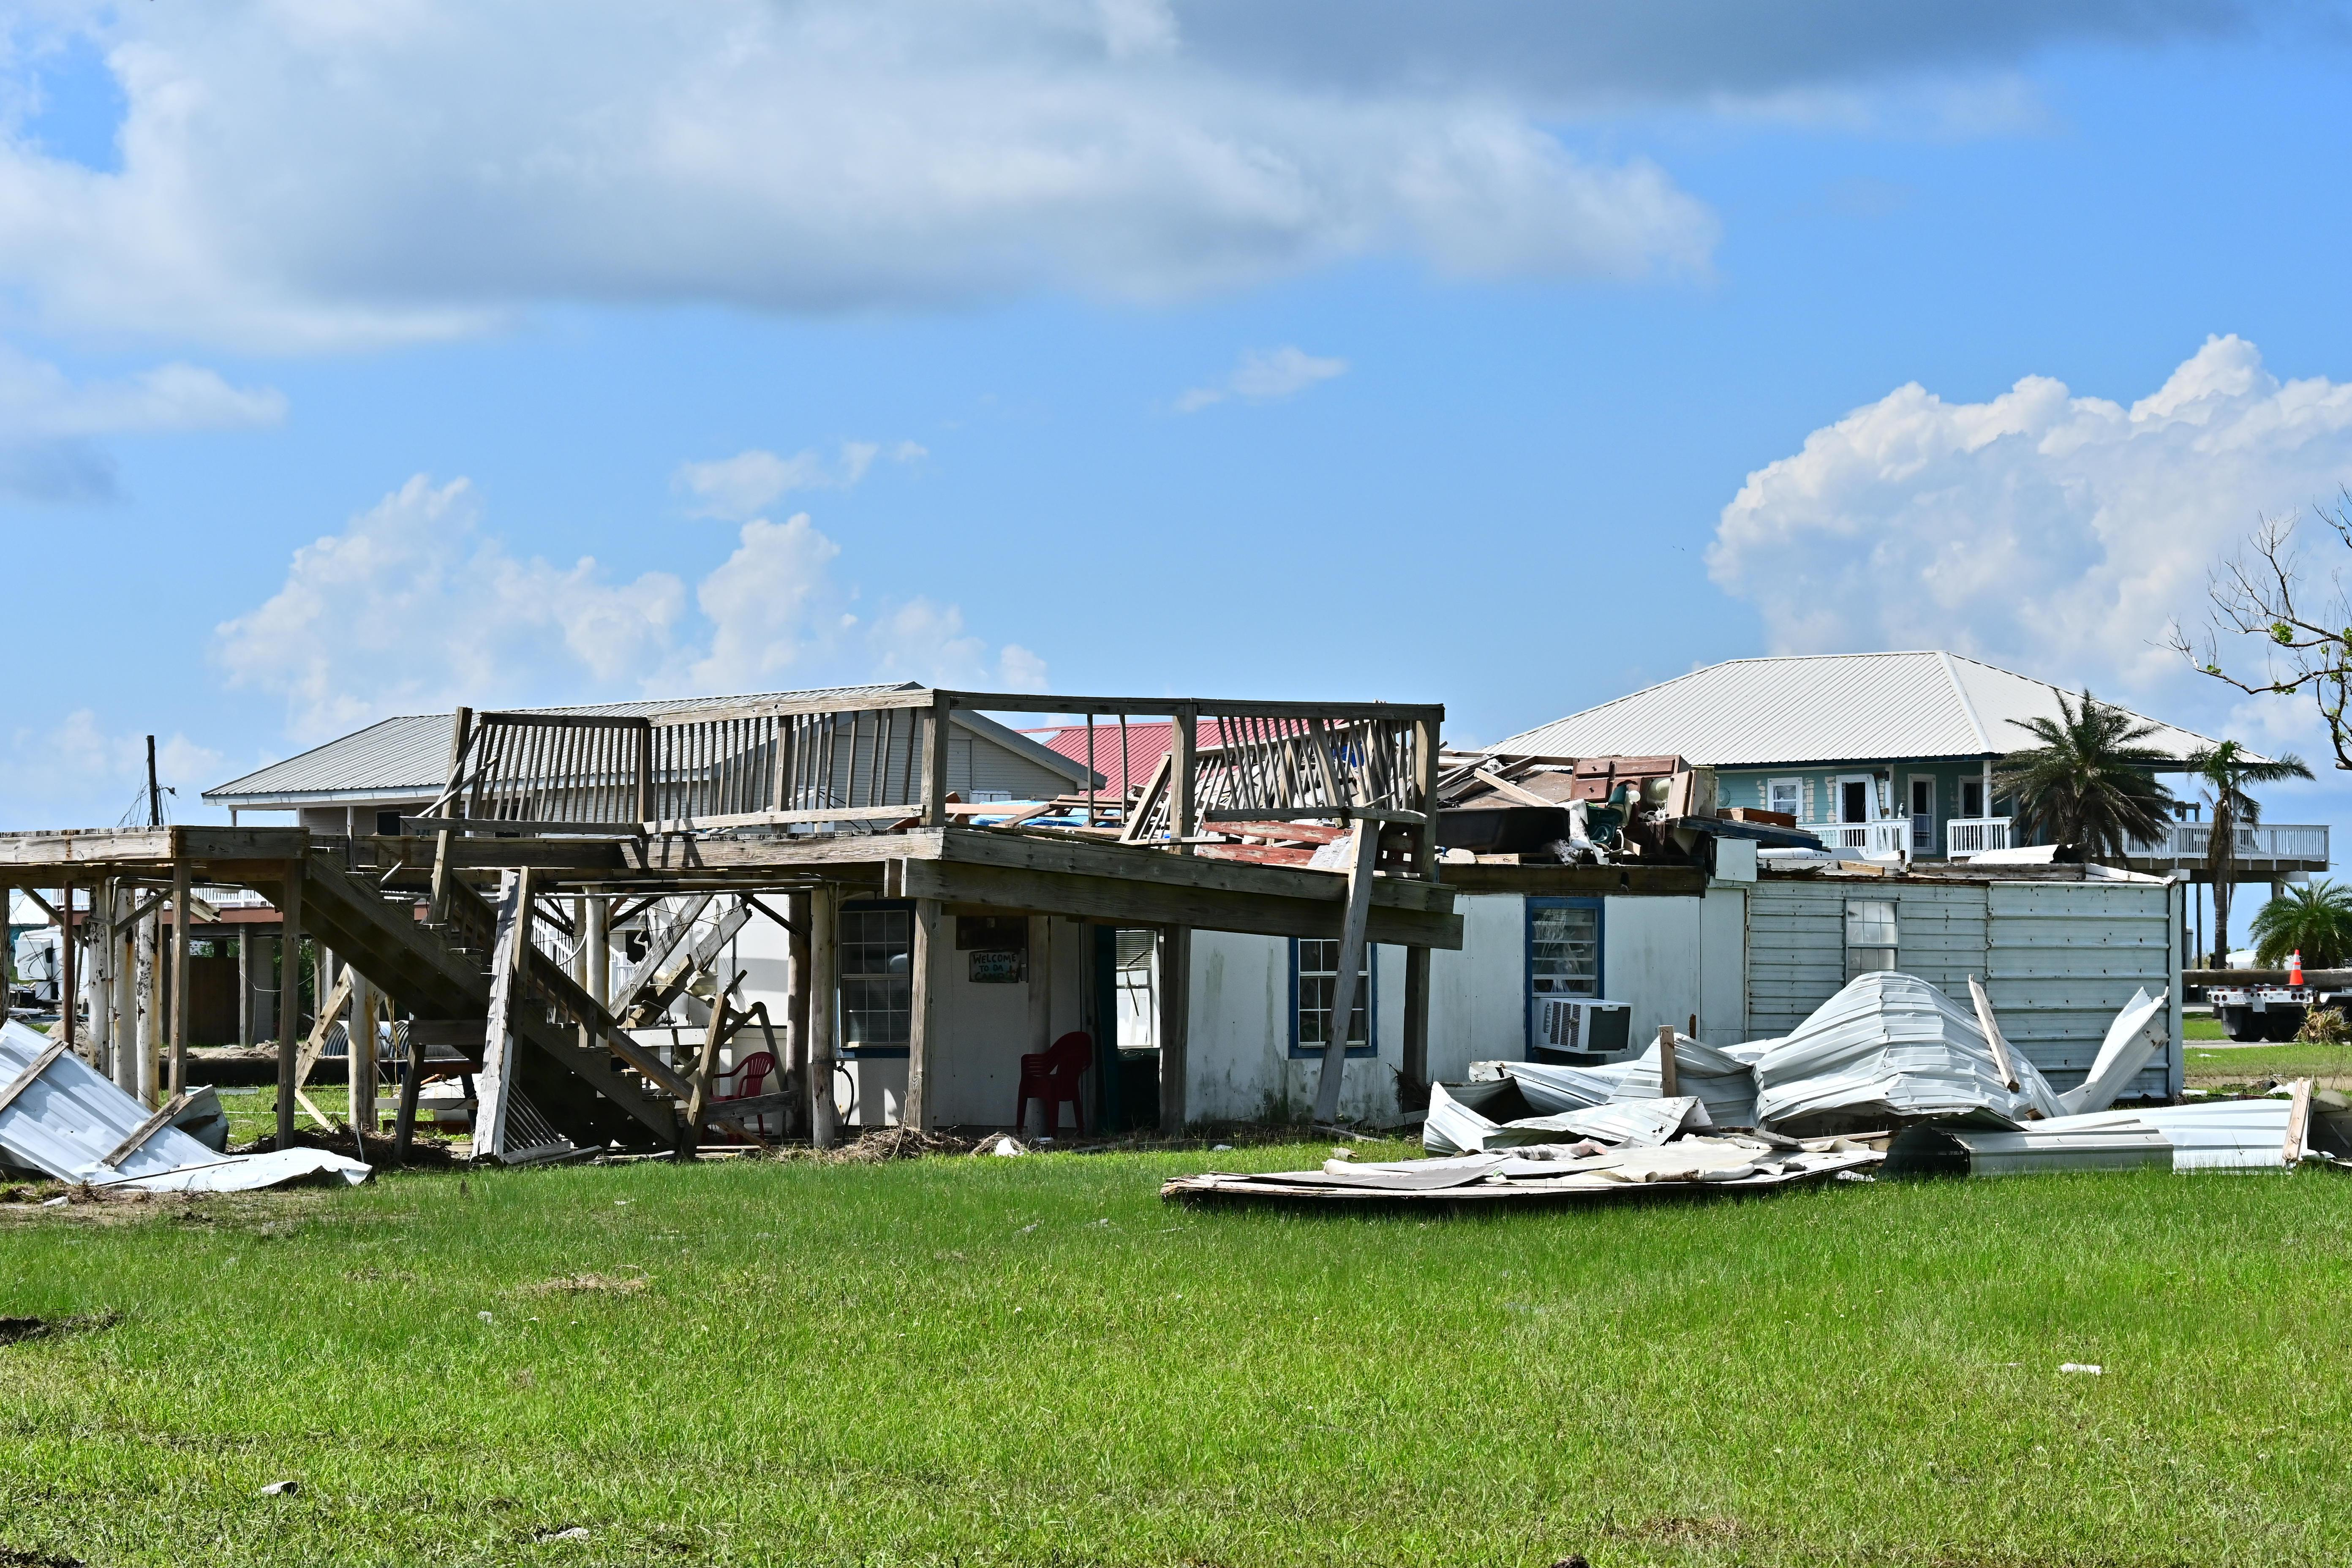destroyed: (25, 682, 1837, 1132)
